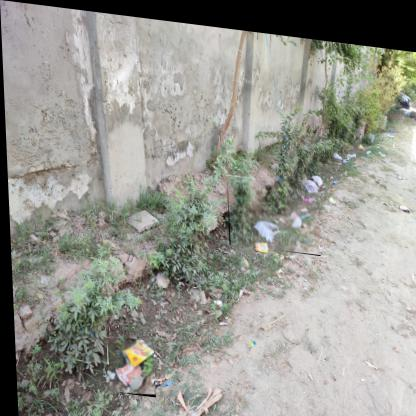Garbage: (226, 170, 321, 250), (105, 334, 154, 396)
